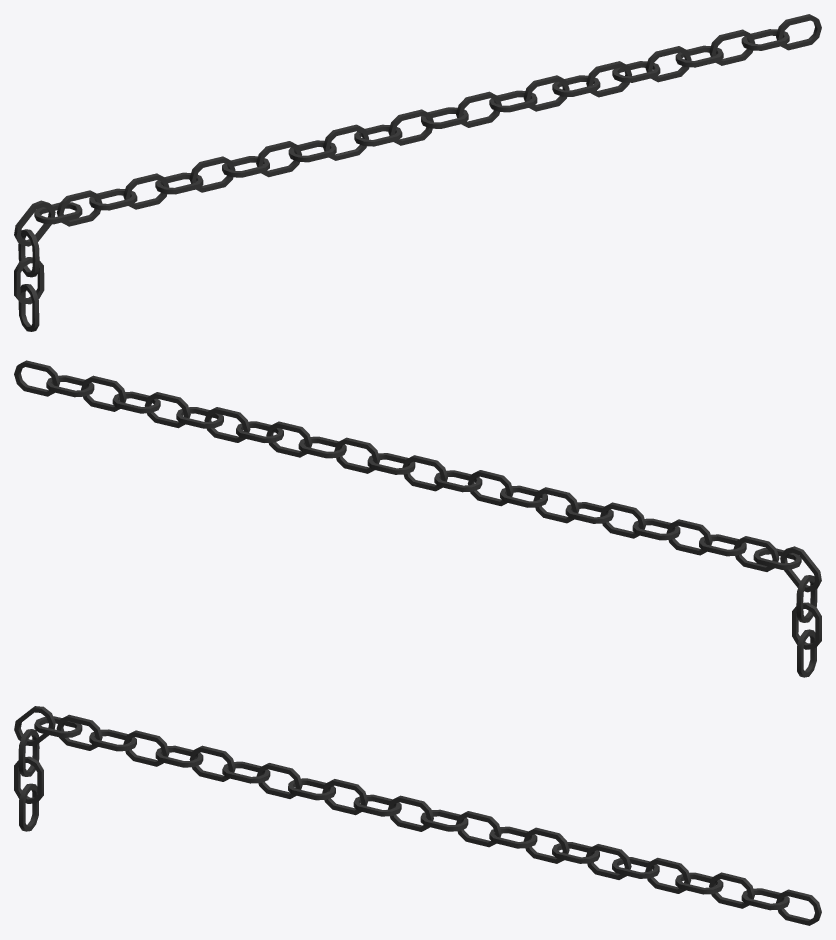
3 renders of one model, top to bottom at view 1: azimuth 30°, elevation 25°; view 2: azimuth 150°, elevation 25°; view 3: azimuth 330°, elevation 25°, orthographic.
Visible parts, largest first — view 1: C_S; view 2: C_S; view 3: C_S.
Part boxes in pixels (x1=…): C_S: x1=14, y1=14, x2=821, y2=331; C_S: x1=14, y1=360, x2=821, y2=677; C_S: x1=14, y1=706, x2=821, y2=925.
Size of the model in its own units: 92.28 by 13.79 by 3.32.
Materials: 1 (1 with a texture image).
